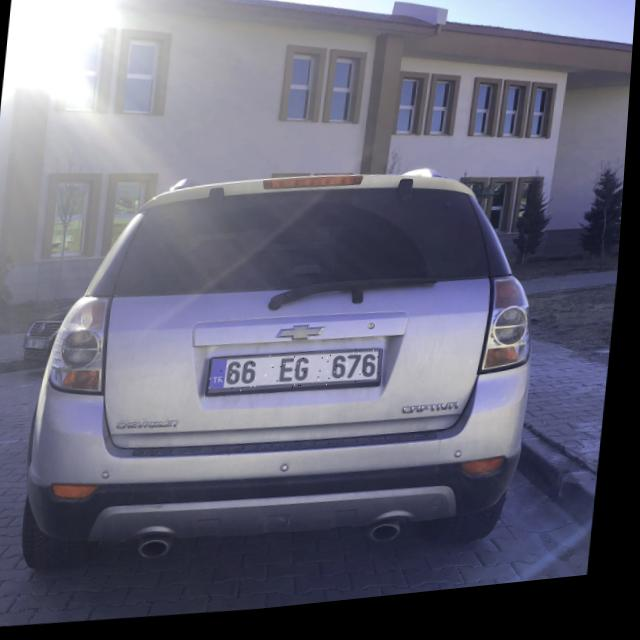license_plate: (213, 350, 387, 404)
